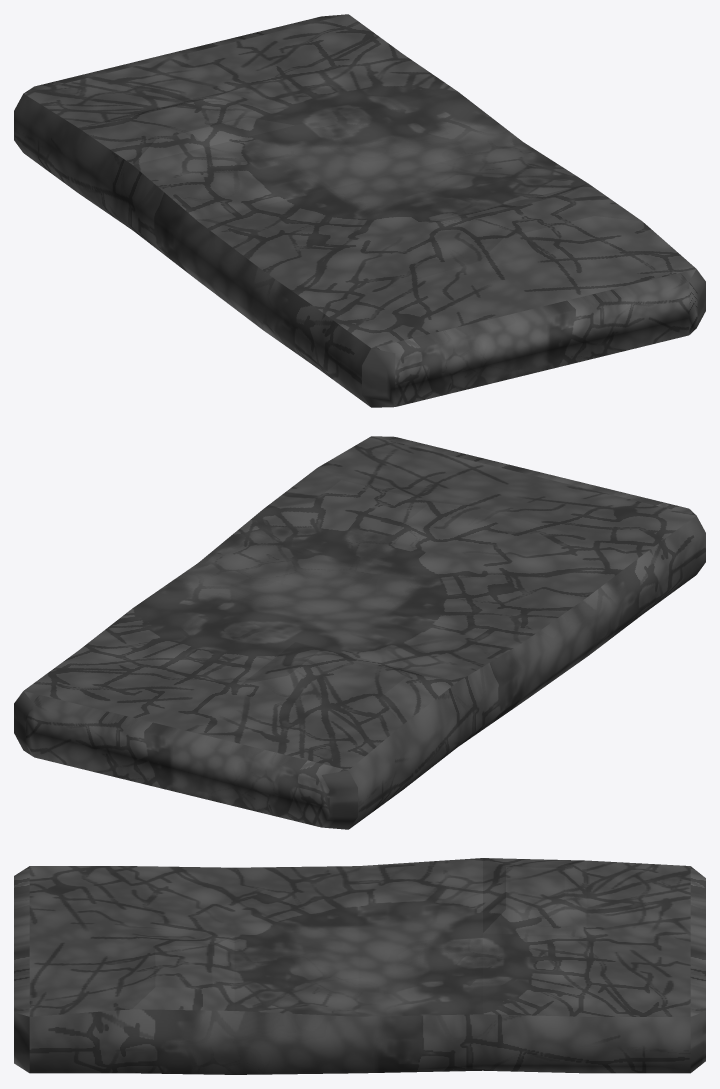
The model's file is GAMEJAMPUFFER - CrackedStone.fbx.
3 renders of one model, top to bottom at view 1: azimuth 30°, elevation 25°; view 2: azimuth 150°, elevation 25°; view 3: azimuth 270°, elevation 25°, orthographic. The views are drawn at different scales.
Visible parts, largest first — view 1: Cube; view 2: Cube; view 3: Cube.
Boxes of the visible parts, x1,y1,x2,y2 form: Cube: (14, 14, 705, 407); Cube: (14, 436, 705, 829); Cube: (14, 858, 705, 1074).
Bounding box in the file's own units: 121 × 28.7 × 222.
Materials: 1 (1 with a texture image).
